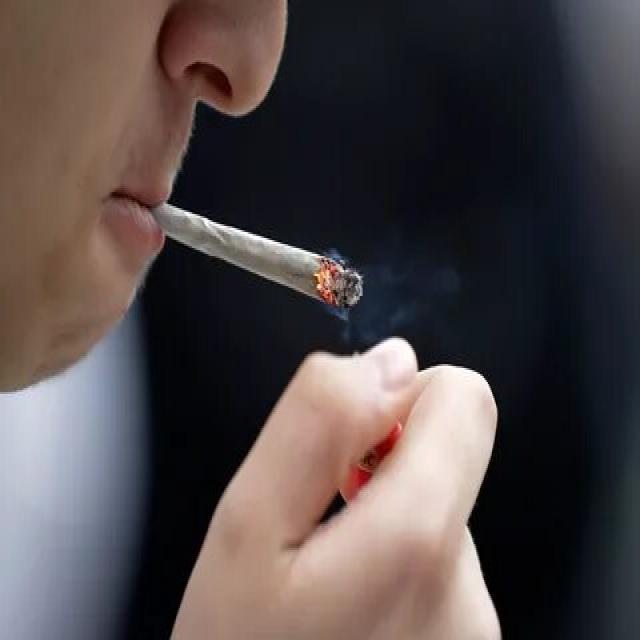cigarette: (147, 194, 368, 316)
